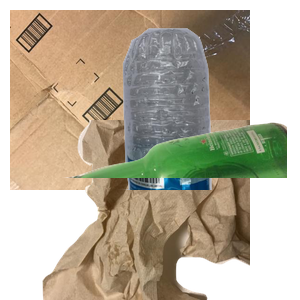cardboard: (10, 10, 250, 190)
glass: (60, 120, 300, 300)
plastic: (111, 26, 300, 206)
trash: (40, 120, 280, 300)
